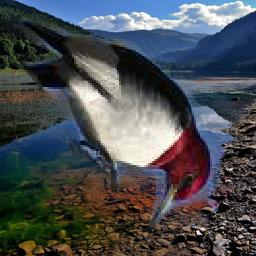Woodpecker: (8, 19, 222, 233)
